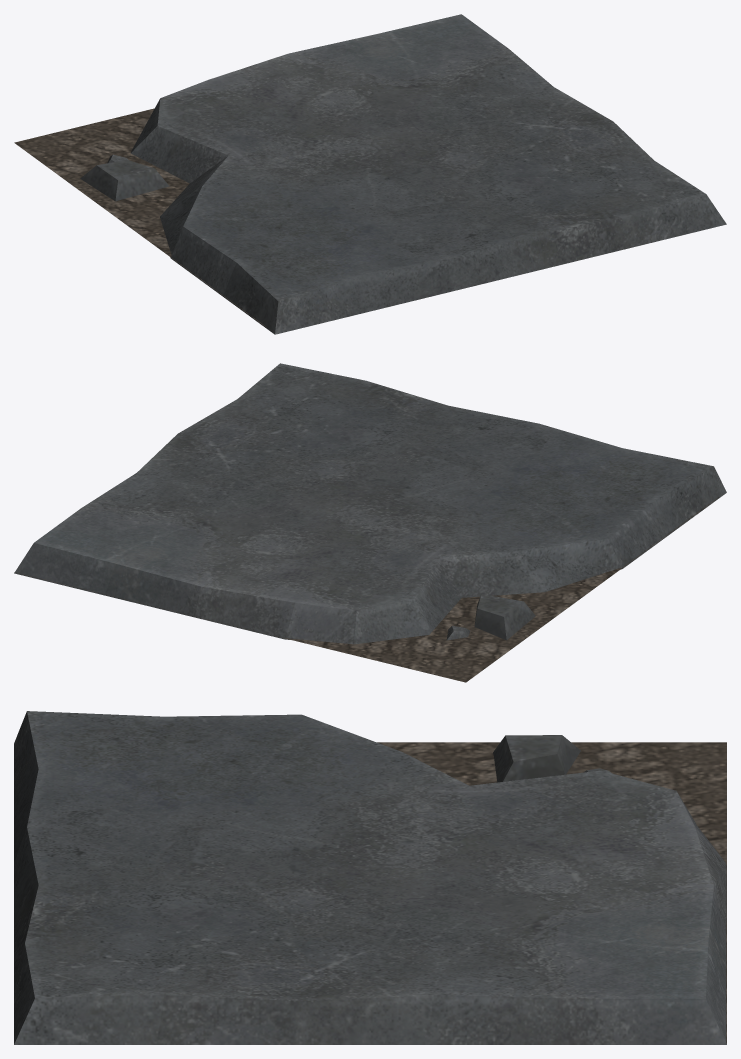
File: Floor4.fbx
3 renders of one model, top to bottom at view 1: azimuth 30°, elevation 25°; view 2: azimuth 150°, elevation 25°; view 3: azimuth 270°, elevation 25°, orthographic. The views are drawn at different scales.
Parts seen in each view (by area): view 1: FLOOR_Type4; view 2: FLOOR_Type4; view 3: FLOOR_Type4.
Part boxes in pixels (x1,y1,x2,y2): FLOOR_Type4: (14,14,726,334); FLOOR_Type4: (14,363,726,682); FLOOR_Type4: (14,711,726,1044).
Size of the model in its own units: 8 by 0.5084 by 8.
Materials: 1 (1 with a texture image).
